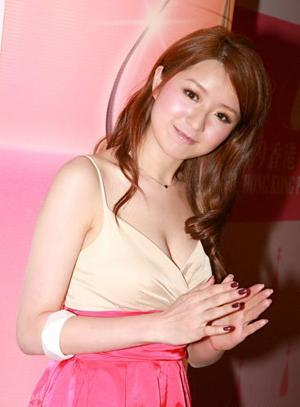person: (16, 26, 272, 406)
